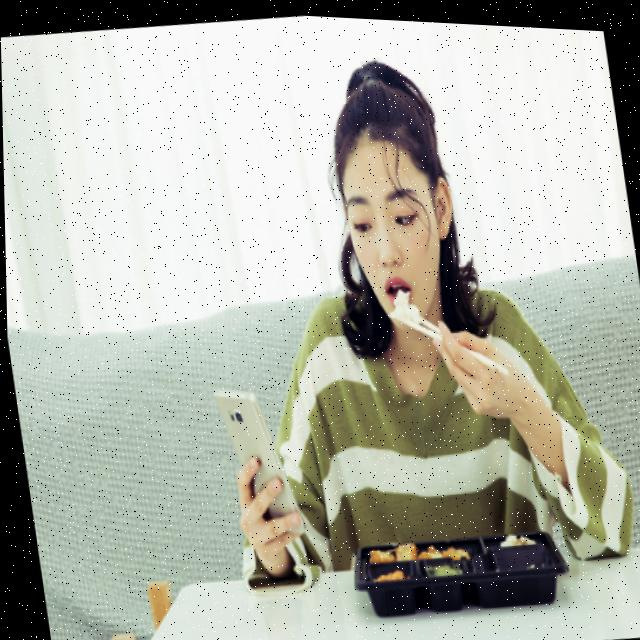eating-person: (153, 9, 640, 637)
